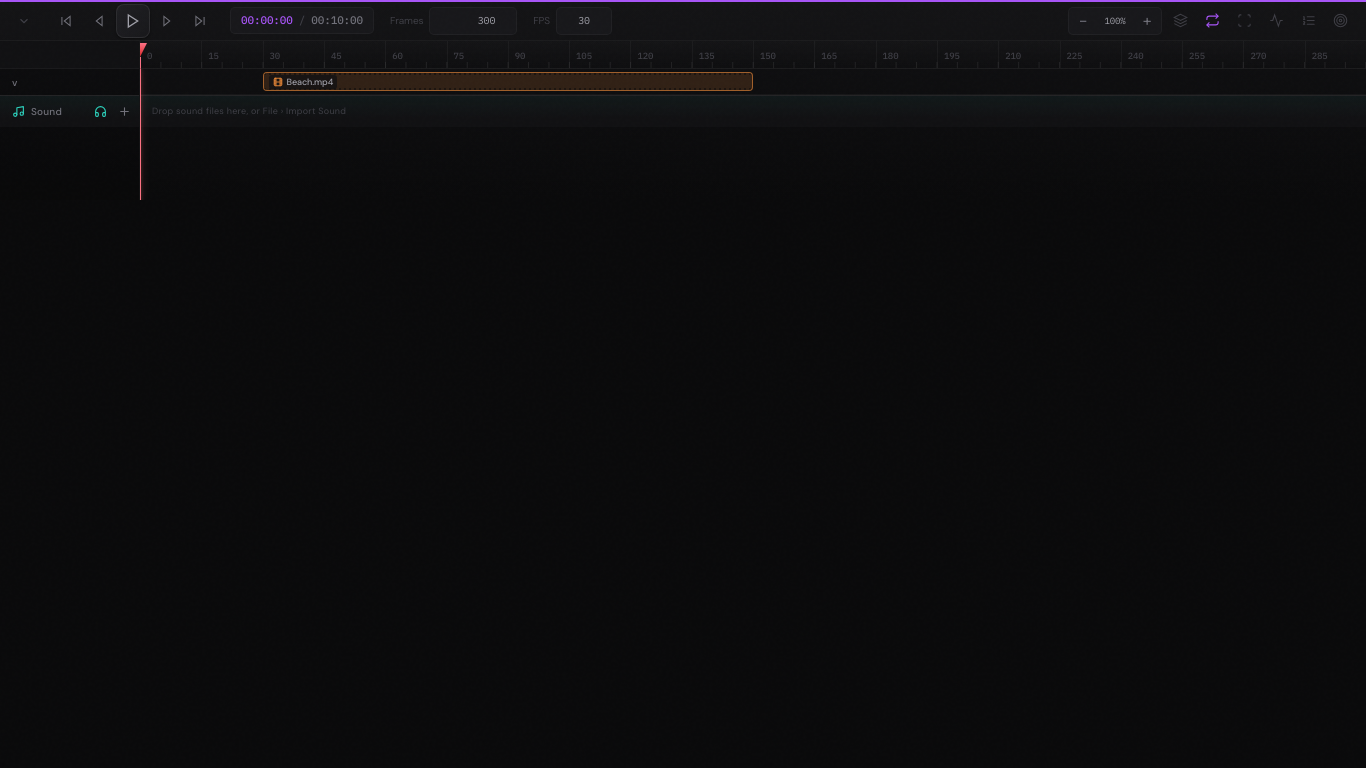
Test case: editing a video clip on its bar › opens its settings by a double-click, Enter or its row’s menu
Double-click the button with test id "video-clip-v" at point(303, 82), box [263, 72, 753, 91]
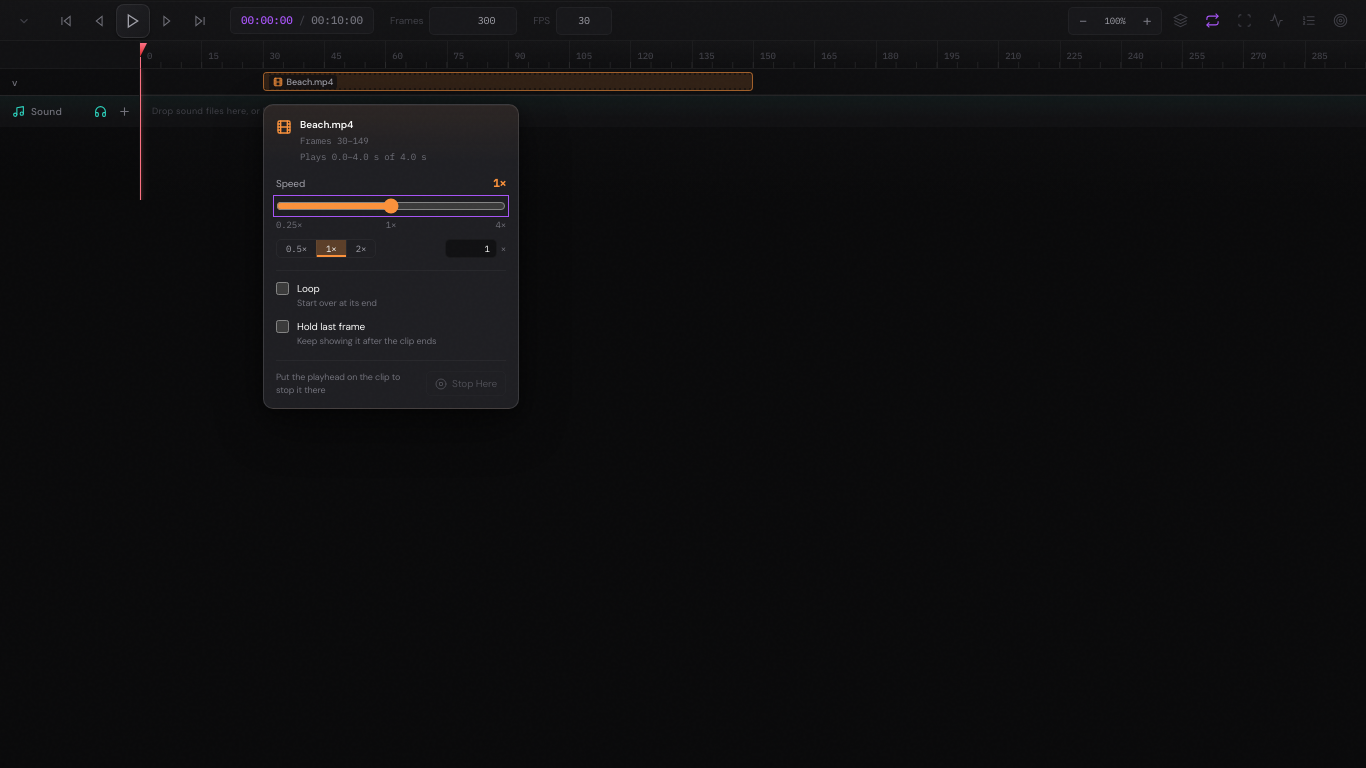
Expected: the dialog with test id "video-clip-settings" shows "Beach.mp4", [300, 118, 353, 131]
Press Escape
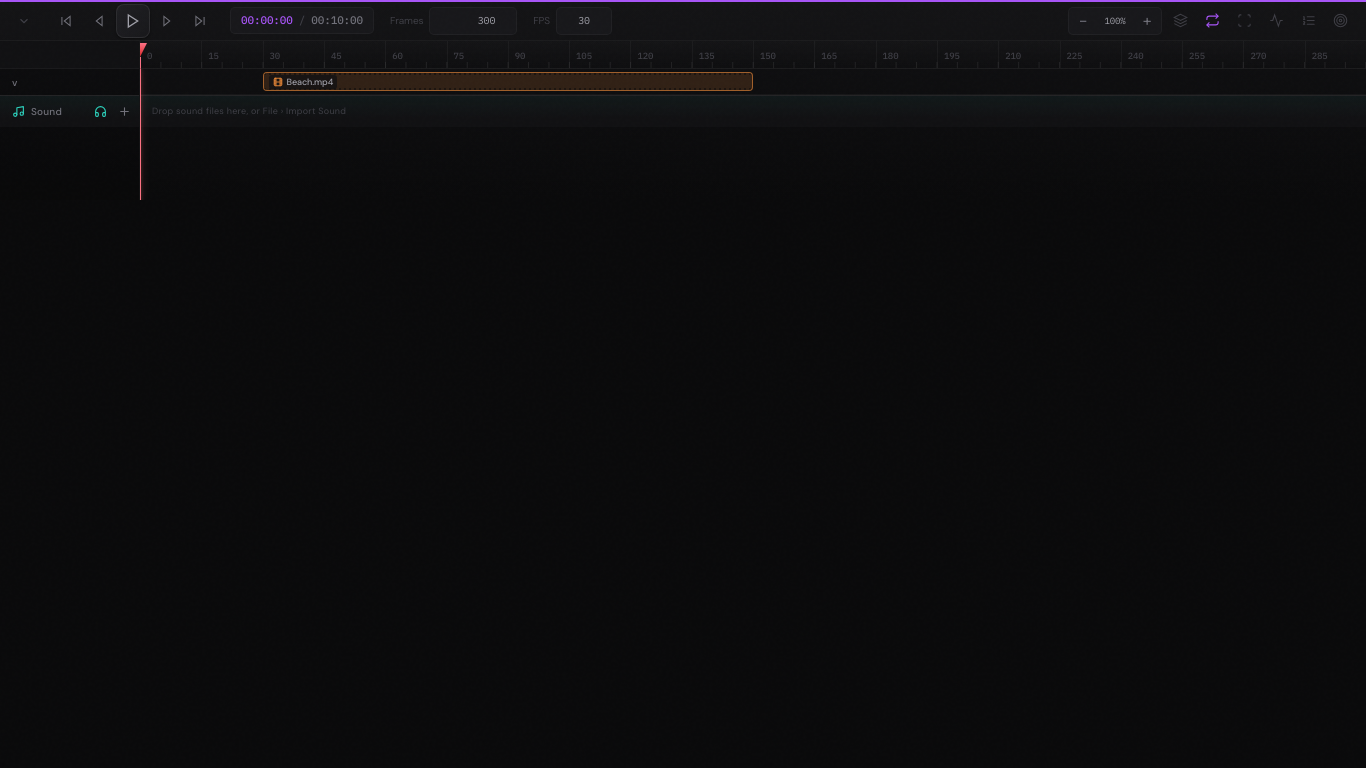
Expected: the dialog with test id "video-clip-settings" is gone
Press Enter in the button with test id "video-clip-v", box [263, 72, 753, 91]
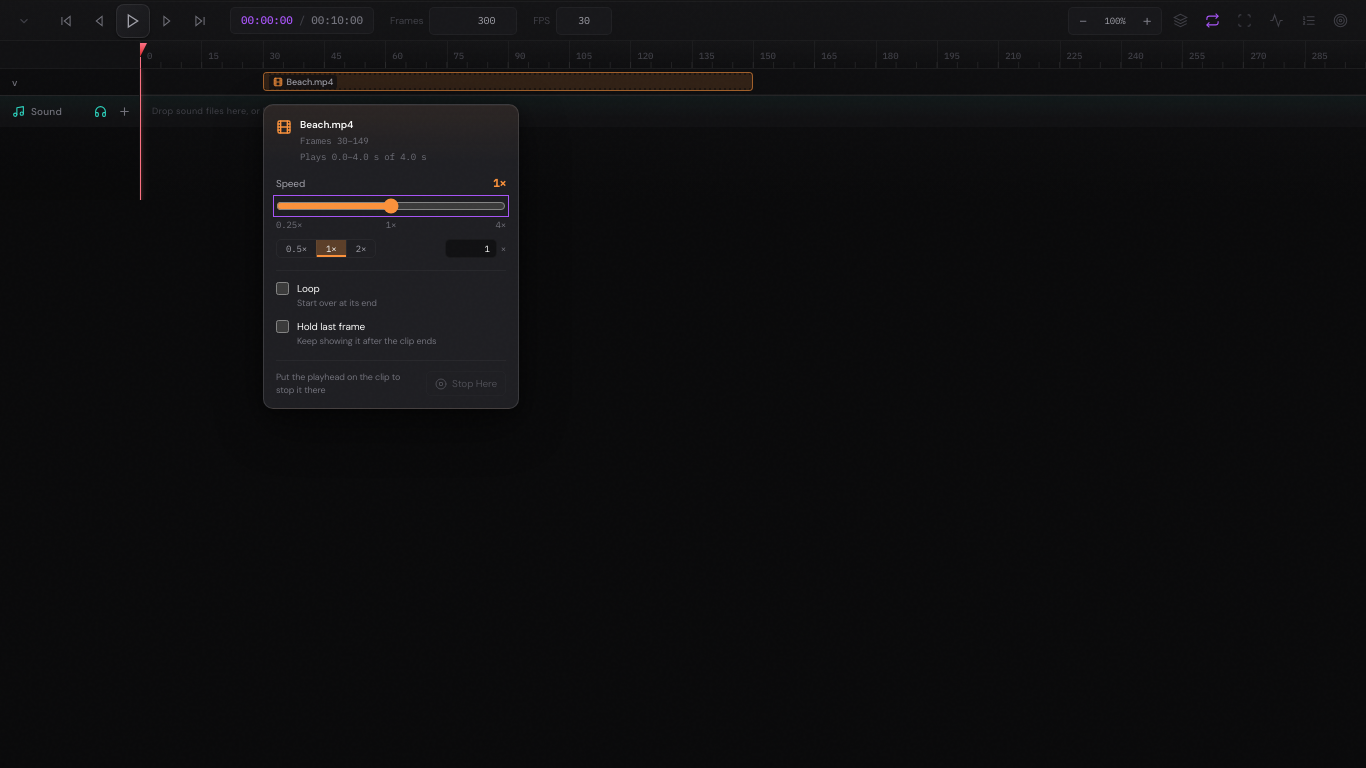
Expected: the dialog with test id "video-clip-settings" is shown, [263, 104, 519, 409]
Press Escape
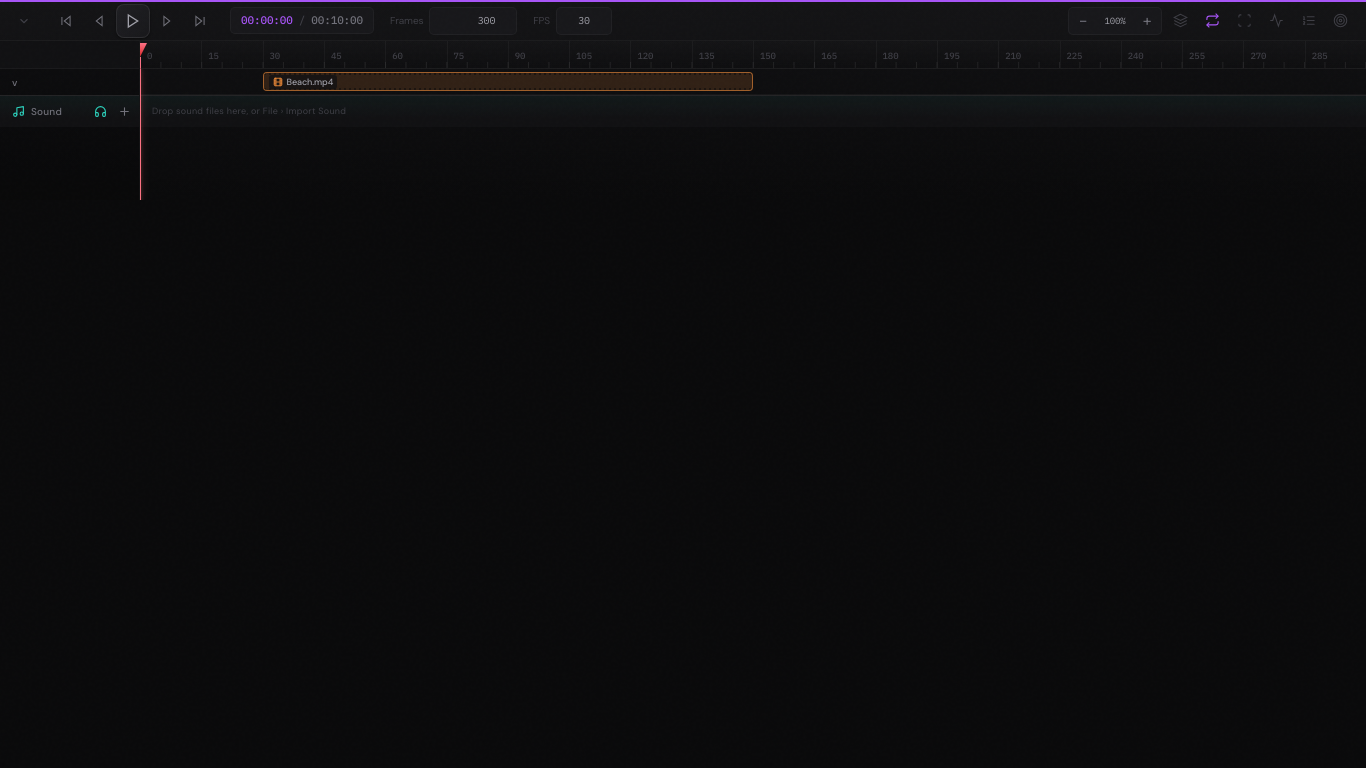
Right-click the button with test id "video-clip-v" at point(303, 82), box [263, 72, 753, 91]
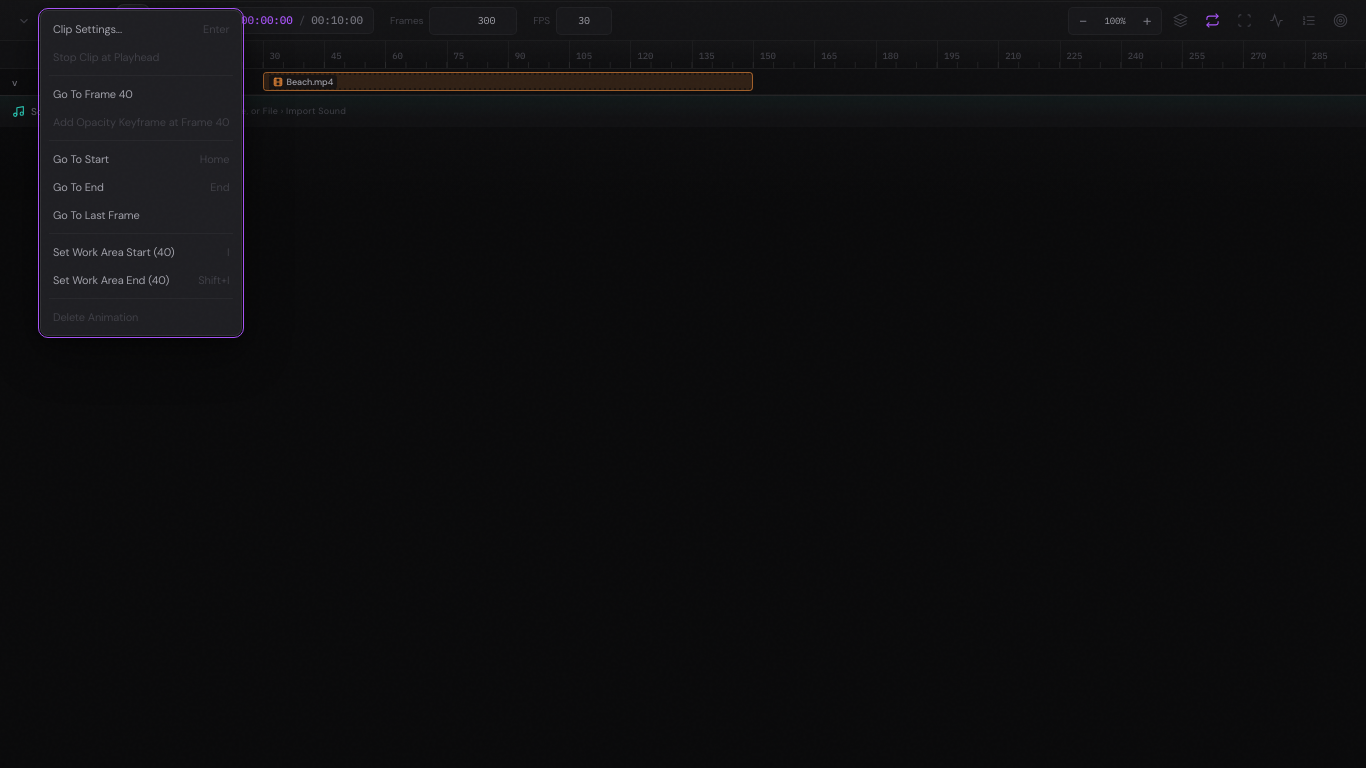
Click the text "Clip Settings..." at point(87, 29), box [53, 22, 122, 36]
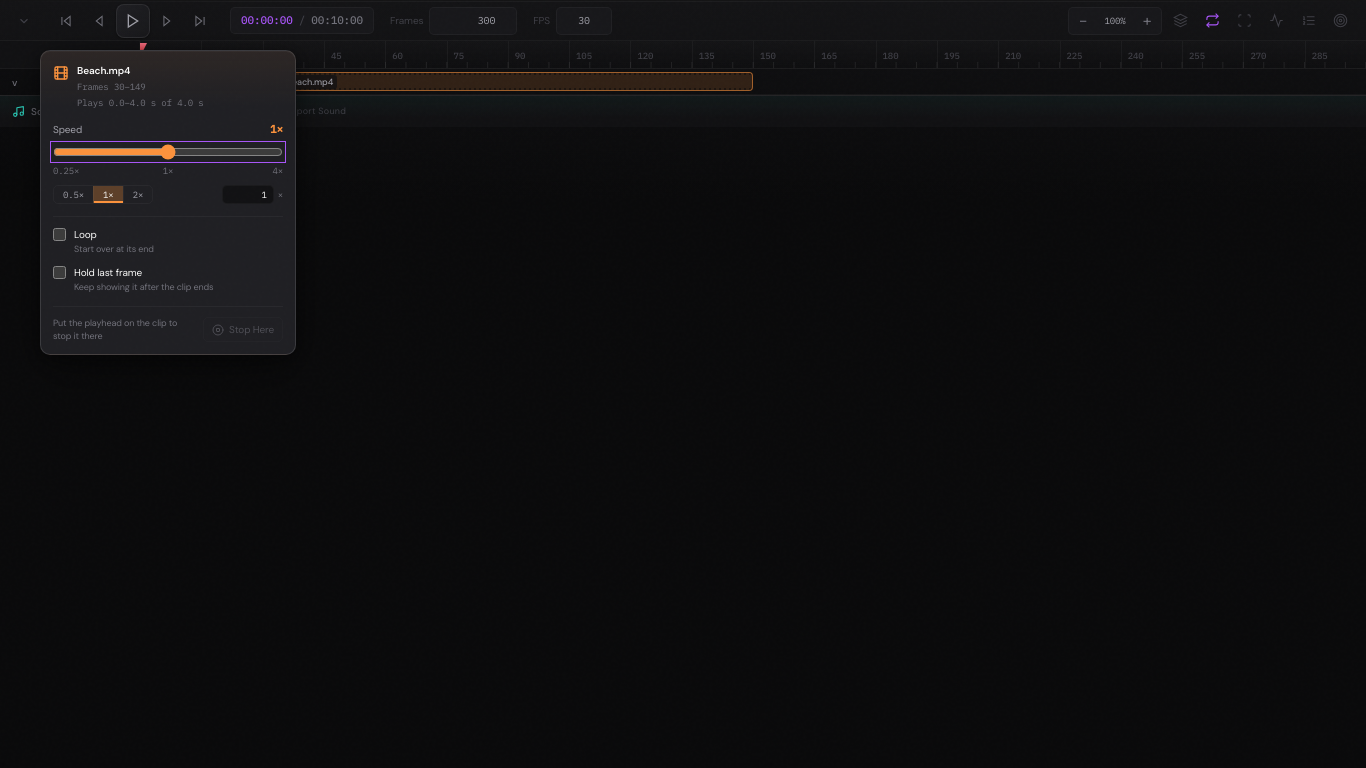
Expected: the dialog with test id "video-clip-settings" is shown, [40, 50, 296, 355]
